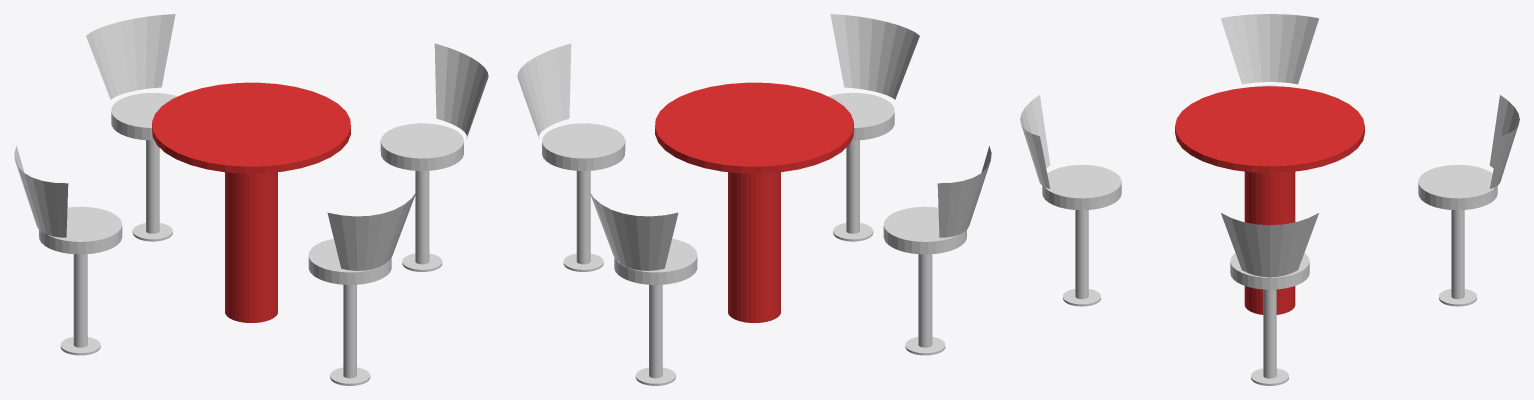
File: Table1.gltf
3 renders of one model, left to right at view 1: azimuth 30°, elevation 25°; view 2: azimuth 150°, elevation 25°; view 3: azimuth 270°, elevation 25°, orthographic. The views are drawn at different scales.
Visible parts, largest first — view 1: Table1; view 2: Table1; view 3: Table1.
Part boxes in pixels (x1,y1,x2,y2): Table1: (14,14,488,385); Table1: (517,14,991,385); Table1: (1020,14,1519,385).
Bounding box in the file's own units: 2.73 × 1.14 × 2.73.
